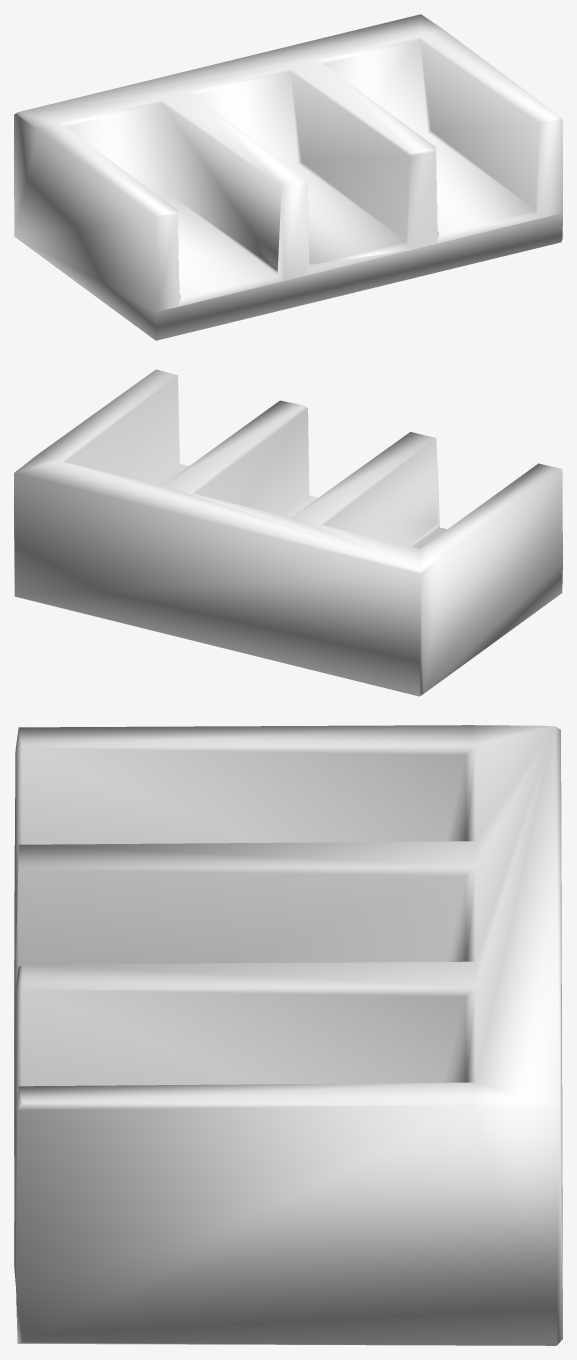
The picture shows the model from 3 angles, top to bottom: view 1: azimuth 30°, elevation 25°; view 2: azimuth 150°, elevation 25°; view 3: azimuth 270°, elevation 25°; orthographic projection. The views are drawn at different scales.
Bounding box in the file's own units: 0.2116 × 0.0622 × 0.1282.
1 material, 1 textured.
